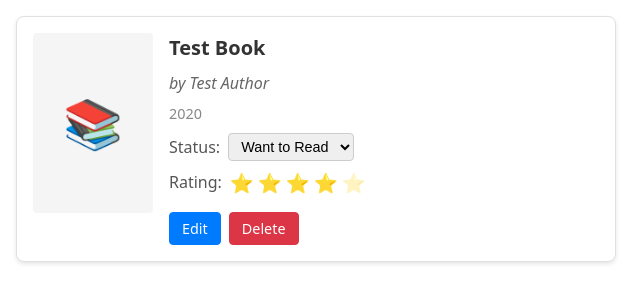
Scenario: BookCard › should show confirmation on first delete click
Click the button with test id "delete-btn-1" at {"x": 264, "y": 228}, box [229,212,299,245]
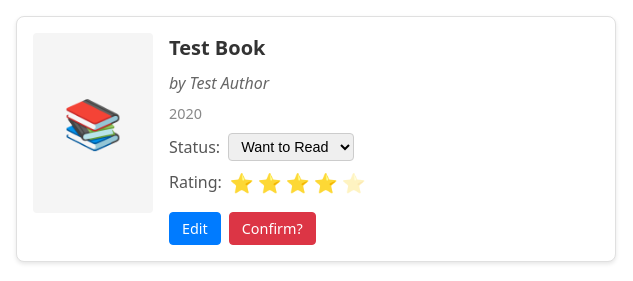
Check: the button with test id "delete-btn-1" reads "Confirm?", box [229,212,316,245]
